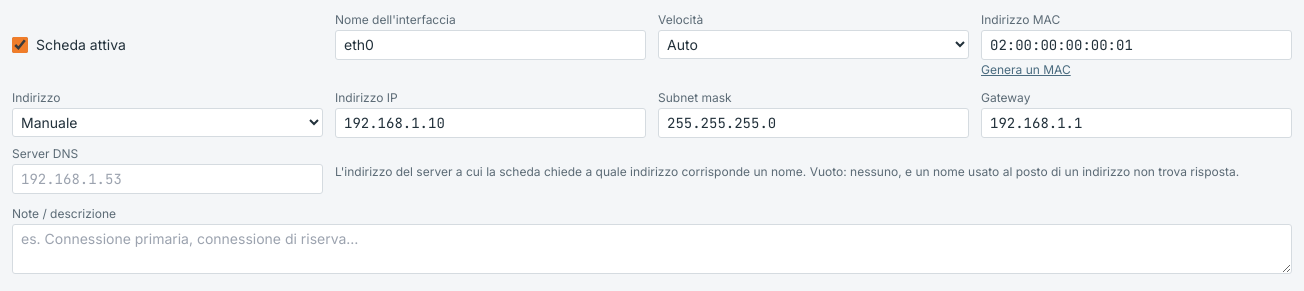
Test: NicEditor — where the address comes from › from DHCP: the card is kept with no address of its own
Select "Automatico (DHCP)" in the dropdown labelled "Indirizzo" at (168, 122), box [12,108,323,137]
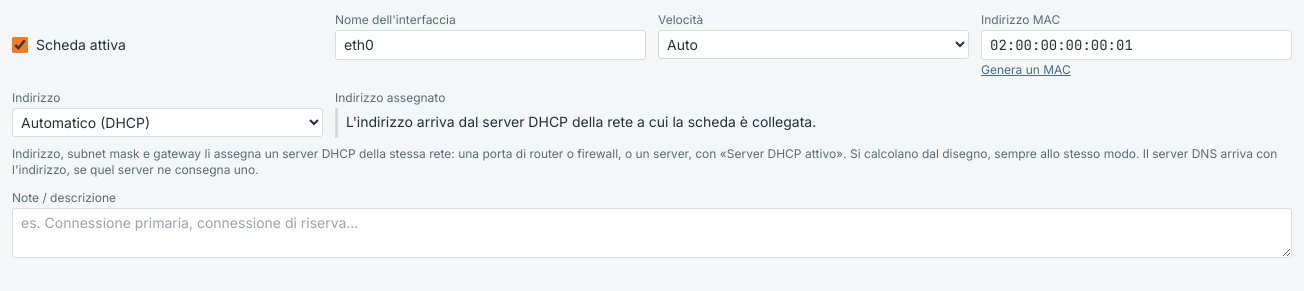
Result: the label labelled "Indirizzo IP" is gone
